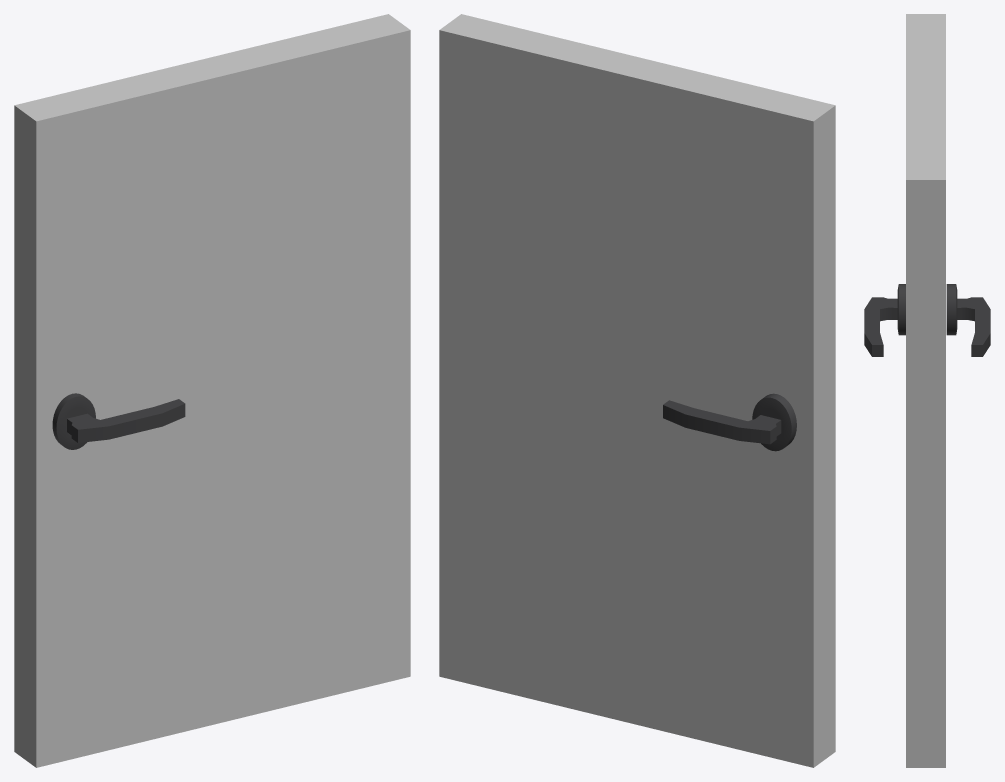
The model's file is Kap.fbx.
3 renders of one model, left to right at view 1: azimuth 30°, elevation 25°; view 2: azimuth 150°, elevation 25°; view 3: azimuth 270°, elevation 25°, orthographic. The views are drawn at different scales.
Visible parts, largest first — view 1: Kapı, Kapı_Kolu.Ön; view 2: Kapı, Kapı_Kolu_Arka; view 3: Kapı, Kapı_Kolu_Arka, Kapı_Kolu.Ön.
Boxes of the visible parts, x1,y1,x2,y2 form: Kapı: [14, 14, 410, 767]; Kapı_Kolu.Ön: [52, 393, 185, 449]; Kapı: [439, 14, 835, 767]; Kapı_Kolu_Arka: [663, 393, 796, 451]; Kapı: [906, 14, 945, 767]; Kapı_Kolu_Arka: [946, 284, 990, 356]; Kapı_Kolu.Ön: [864, 284, 905, 356].
Bounding box in the file's own units: 172 × 283 × 55.1.
